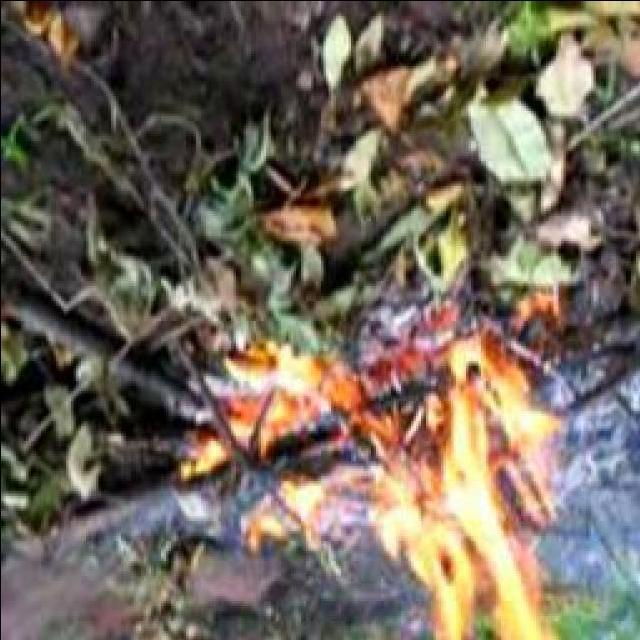Fire: (358, 332, 552, 638), (233, 340, 344, 544)
